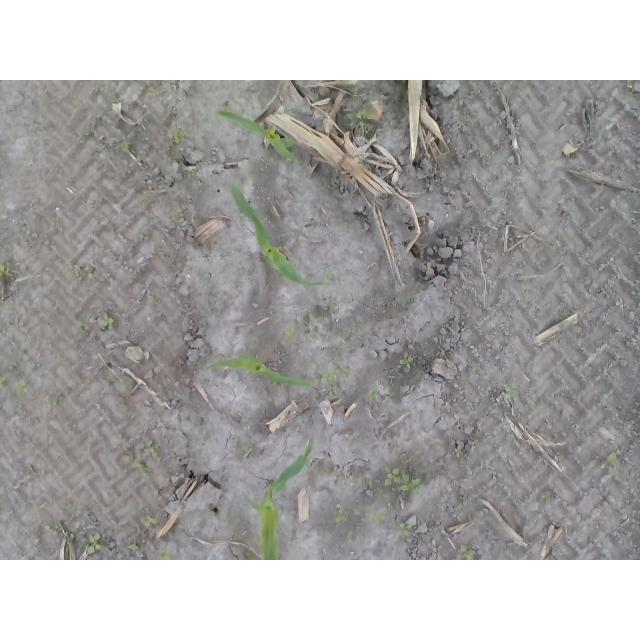Maize: (228, 177, 327, 288), (240, 436, 315, 561), (218, 109, 300, 163), (206, 357, 317, 387)
Weeds: (384, 466, 422, 497), (320, 366, 352, 382), (1, 376, 28, 392), (86, 532, 103, 555), (167, 129, 186, 146), (503, 383, 518, 401), (368, 511, 387, 525), (459, 545, 476, 560), (399, 352, 414, 369), (1, 261, 15, 279), (98, 313, 114, 327), (397, 523, 411, 538), (144, 446, 161, 458), (356, 112, 368, 129), (145, 514, 160, 526), (334, 510, 347, 523), (130, 459, 145, 470), (286, 328, 298, 341), (158, 549, 171, 560), (127, 541, 140, 551), (452, 449, 463, 460), (367, 391, 378, 401), (608, 452, 617, 464), (244, 446, 253, 458), (120, 143, 130, 153), (65, 533, 75, 543), (329, 388, 338, 397), (627, 83, 634, 93), (47, 529, 55, 537), (170, 212, 175, 221), (192, 169, 199, 175)
